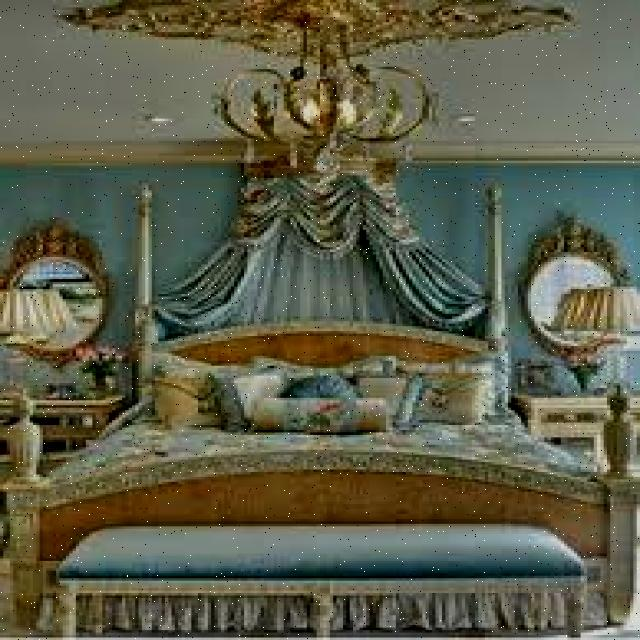bed: (36, 314, 616, 551)
